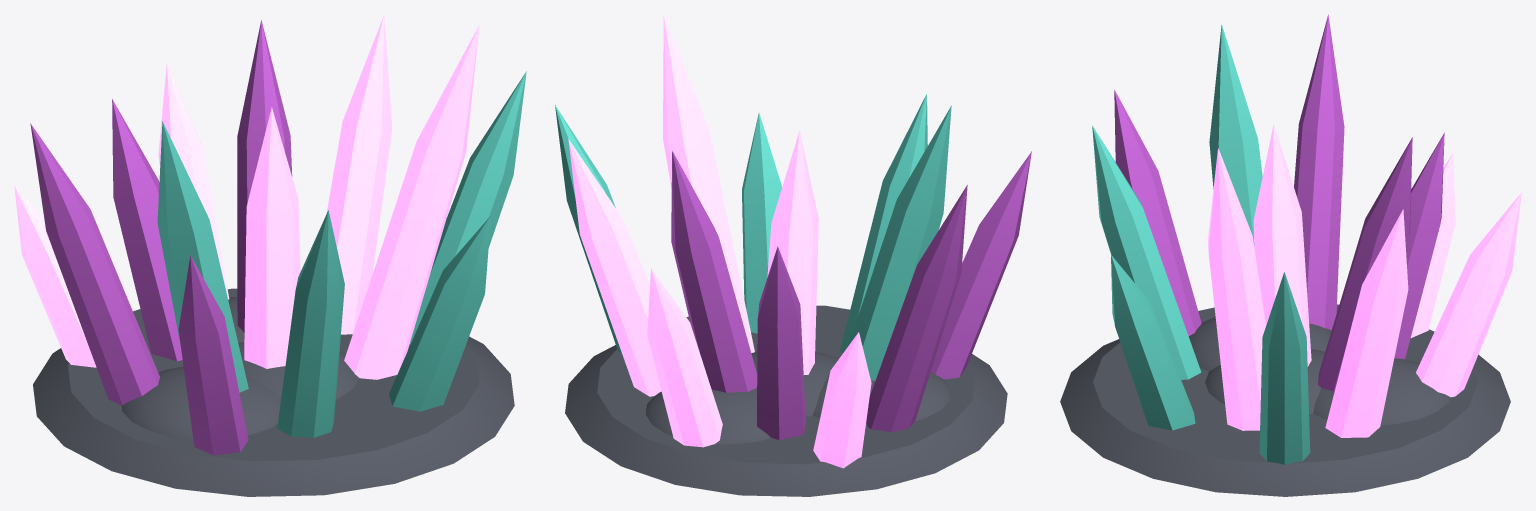
Rendered from gem_stage_3.glb.
The picture shows the model from 3 angles, left to right: view 1: azimuth 30°, elevation 25°; view 2: azimuth 150°, elevation 25°; view 3: azimuth 270°, elevation 25°; orthographic projection. The views are drawn at different scales.
Parts seen in each view (by area): view 1: Hull; view 2: Hull; view 3: Hull.
Part boxes in pixels (x1,y1,x2,y2): Hull: (14,15,526,496); Hull: (555,14,1031,496); Hull: (1060,14,1521,496).
Size of what is drawn, in the model's own units: 1.24 by 0.8918 by 1.13.
